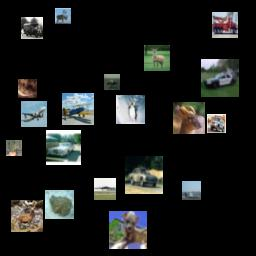airplane: (62, 93, 94, 125), (21, 101, 47, 127), (94, 178, 116, 200), (182, 181, 201, 200), (104, 74, 120, 90)
automobile: (125, 156, 163, 194), (201, 59, 239, 97), (46, 130, 81, 165), (207, 114, 226, 133)
cat: (116, 95, 145, 124), (18, 79, 37, 98)
deer: (11, 200, 43, 232), (173, 102, 205, 134), (144, 45, 170, 71), (55, 8, 71, 24), (6, 140, 22, 156)
dog: (109, 211, 147, 249)
frog: (45, 190, 74, 219)
truck: (212, 12, 238, 38), (21, 17, 43, 39)
